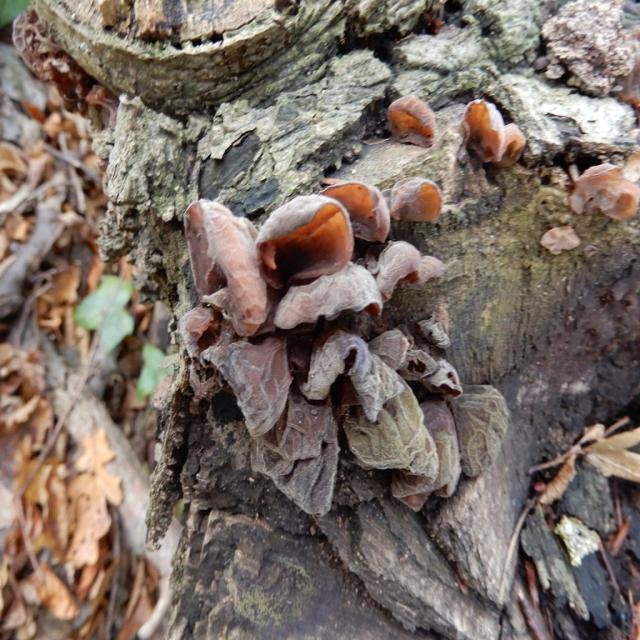Fase Muda: (570, 158, 640, 231)
Matang: (168, 304, 294, 441), (182, 196, 277, 341), (304, 318, 411, 418), (253, 188, 357, 288), (272, 260, 385, 334), (353, 236, 421, 306), (327, 174, 390, 249), (384, 170, 444, 227), (462, 98, 509, 166), (386, 89, 436, 150)
